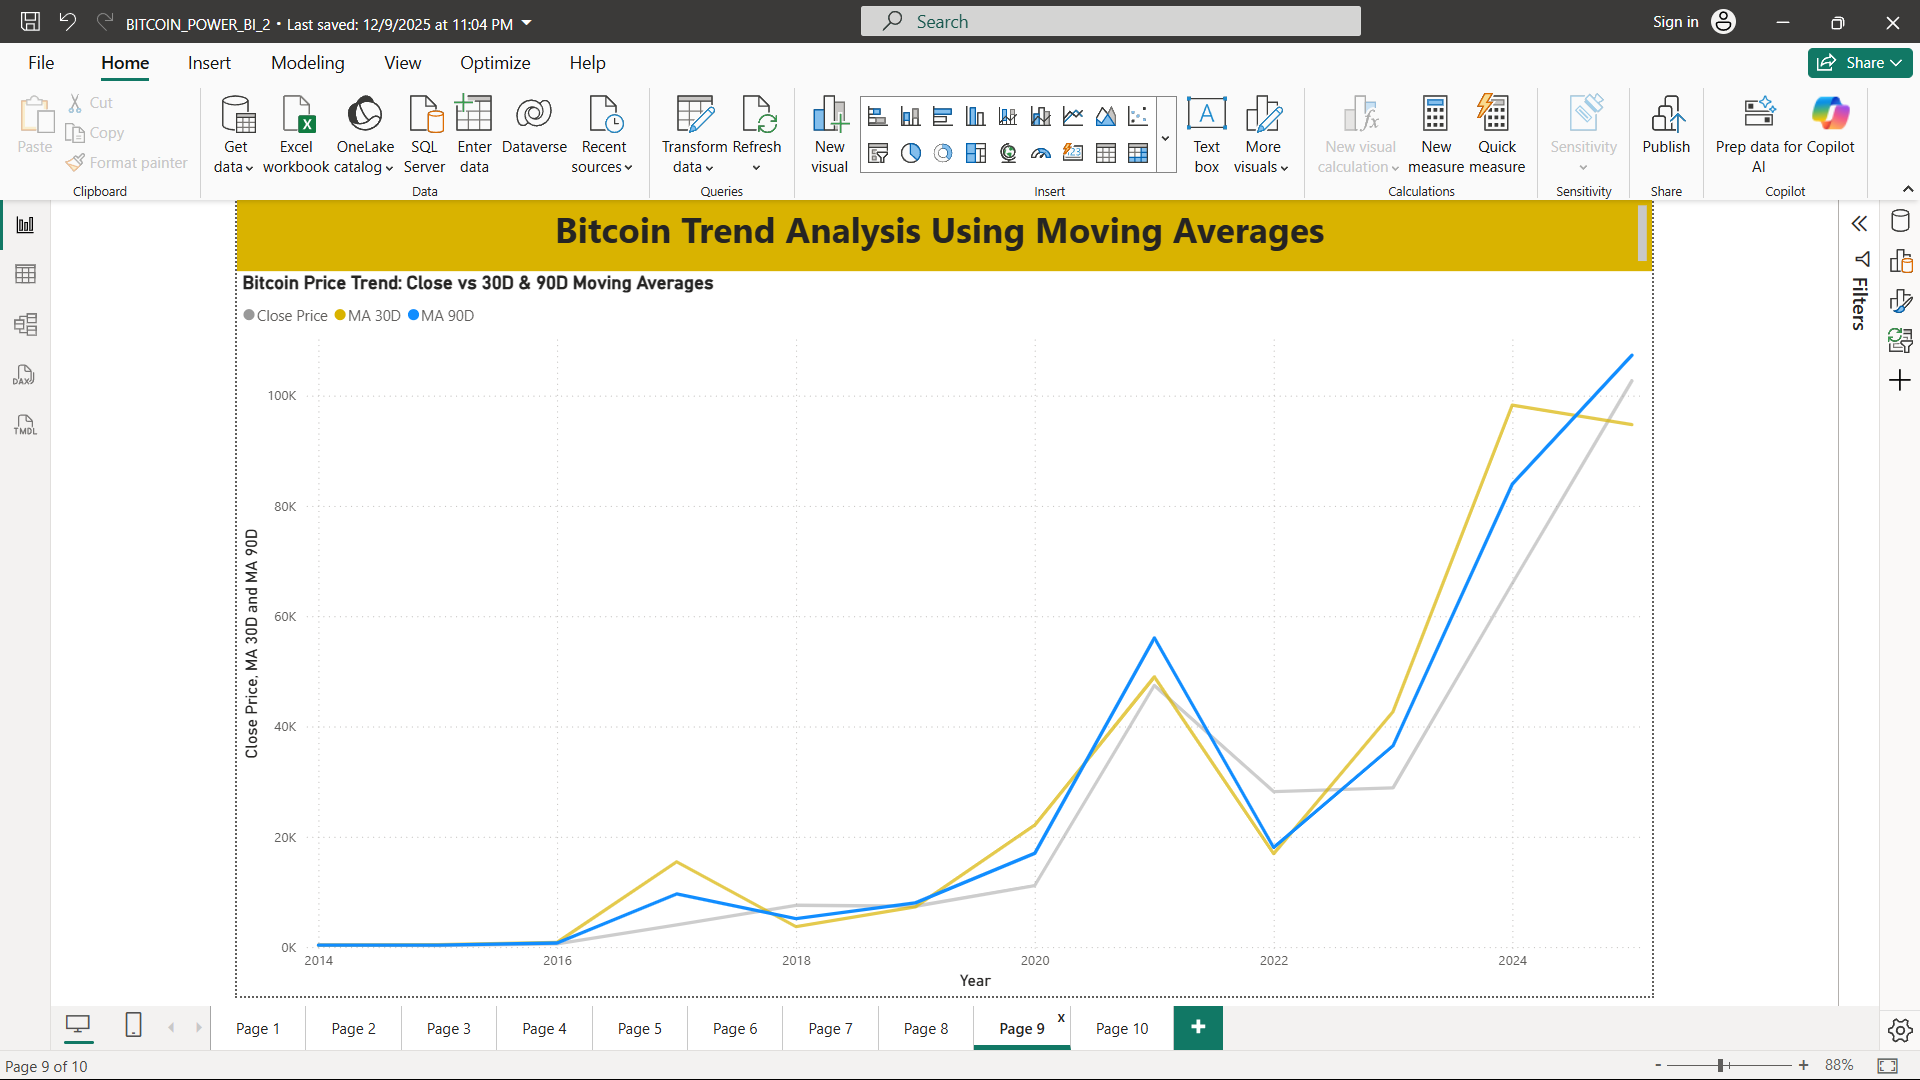

Layout of this report page (visuals, bound fields, positions):
{"tool":"powerbi","page":{"name":"Page 9","canvas":[1280,720],"ordinal":8},"visuals":[{"type":"textbox","box":[0,0,1280,65],"z":0},{"type":"lineChart","title":"Bitcoin Price Trend: Close vs 30D & 90D Moving Averages","fields":{"Category":["bitcoin_data_2014_to_2025.Date.Variation.Date Hierarchy.Year","bitcoin_data_2014_to_2025.Date.Variation.Date Hierarchy.Quarter","bitcoin_data_2014_to_2025.Date.Variation.Date Hierarchy.Month","bitcoin_data_2014_to_2025.Date.Variation.Date Hierarchy.Day"],"Y":["bitcoin_data_2014_to_2025.Close Price","bitcoin_data_2014_to_2025.MA 30D","bitcoin_data_2014_to_2025.MA 90D"]},"box":[0,65,1280,655],"z":1000}]}

Visuals, with their boxes on the page's 1280x720 design canvas (x1, y1, x2, y2). These are canvas units, not pixel positions in the 1920x1080 screenshot, which may show the page scaled, cropped or inside an application window:
textbox: [left=0, top=0, right=1280, bottom=65]
"Bitcoin Price Trend: Close vs 30D & 90D Moving Averages" lineChart: [left=0, top=65, right=1280, bottom=720]
